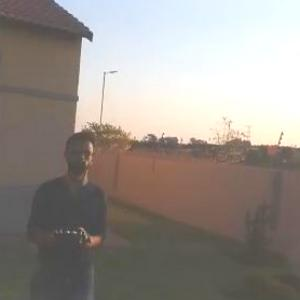follow: (24, 127, 116, 299)
